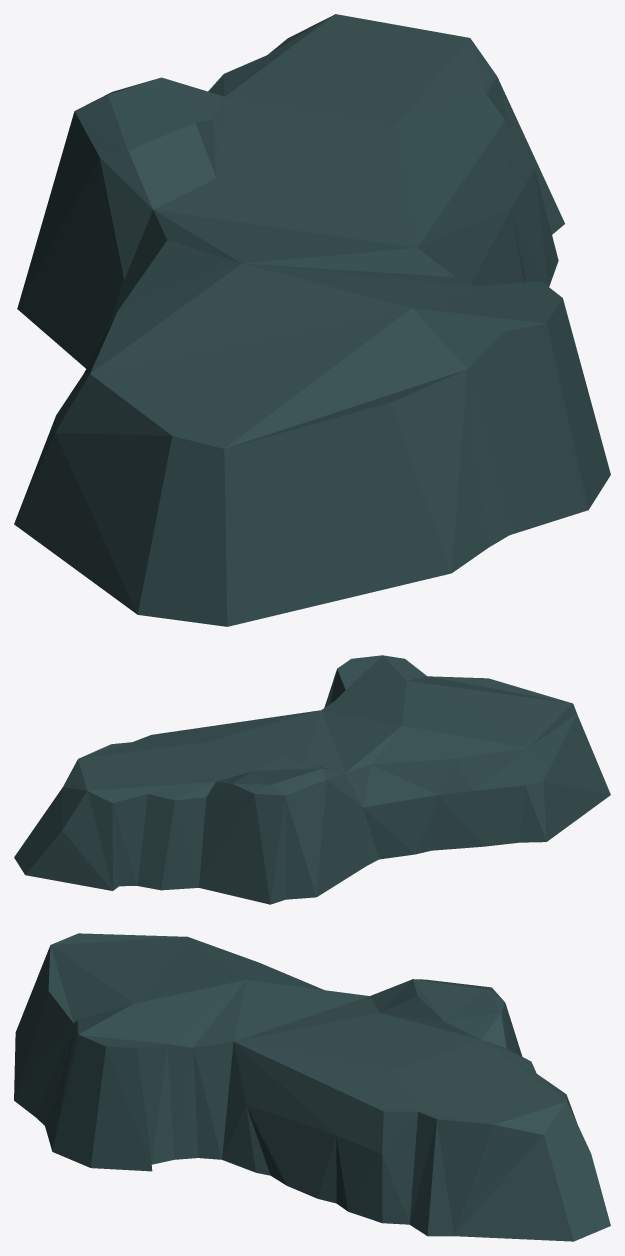
The model's file is rock_03.FBX.
3 views of the same model, one above another, from view 1: azimuth 30°, elevation 25°; view 2: azimuth 150°, elevation 25°; view 3: azimuth 270°, elevation 25° (orthographic). The views are drawn at different scales.
Parts seen in each view (by area): view 1: rock_03; view 2: rock_03; view 3: rock_03.
Part boxes in pixels (x1,y1,x2,y2): rock_03: (14, 14, 610, 626); rock_03: (14, 655, 610, 904); rock_03: (14, 933, 610, 1241).
Size of the model in its own units: 6.92 by 1.78 by 7.72.
